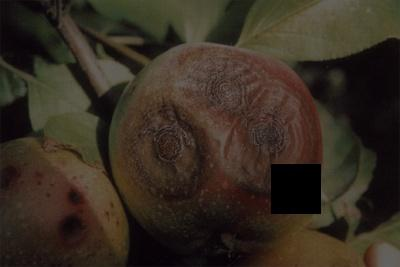rotten apple: (109, 44, 322, 259), (1, 134, 130, 267)
